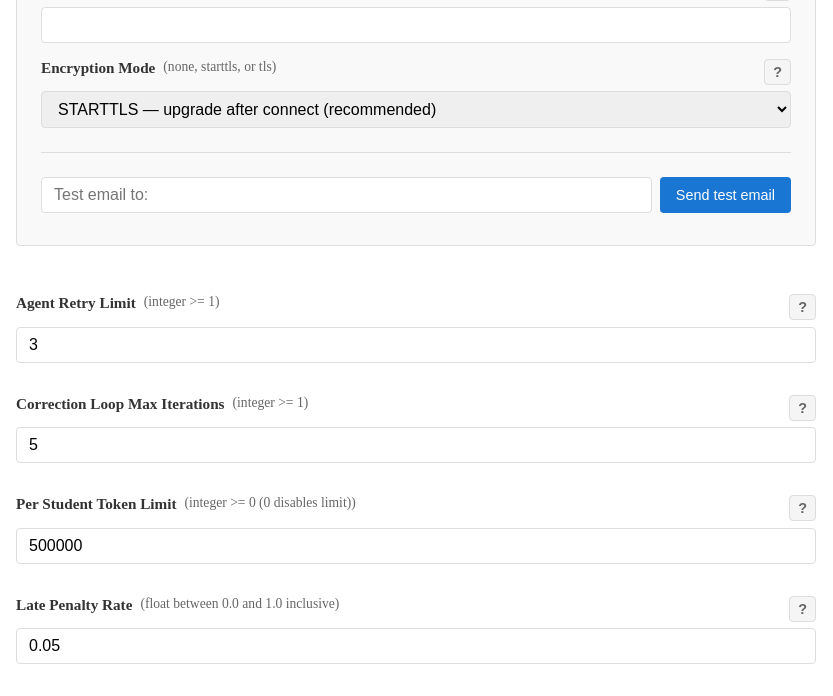
Test: SystemConfigView › success message shown after successful save
(page scrolled)
Step 1. Replace the text in the field with id "config-agent_retry_limit" with "7" → (416, 345), box [16,327,816,363]
(page scrolled)
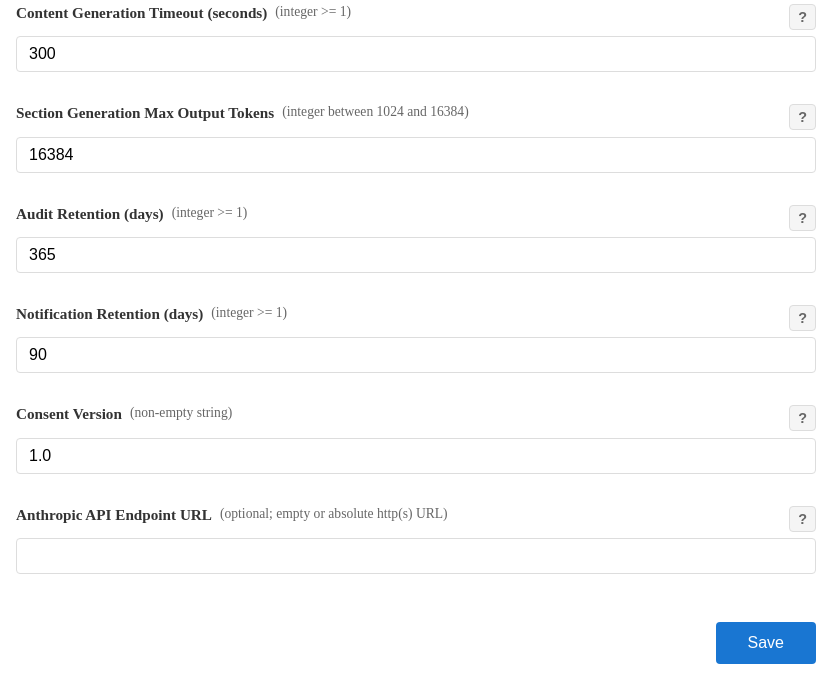
Step 2. Click the button with class "save-button" → (766, 643), box [716,622,816,664]
(page scrolled)
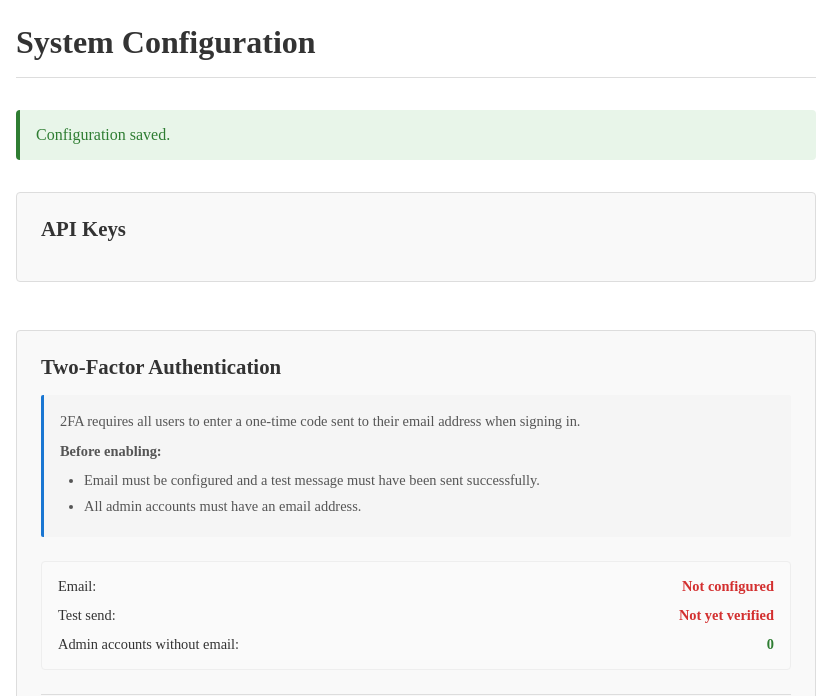
Expected: the text "Configuration saved." is shown, [16,110,816,160]
Expected: the text with class "success-banner" reads "Configuration saved.", [36,126,170,143]
